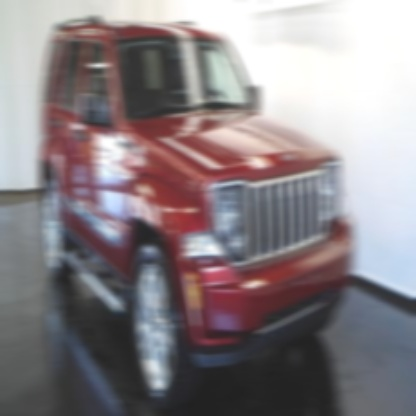Vehicle: (40, 15, 357, 410)
